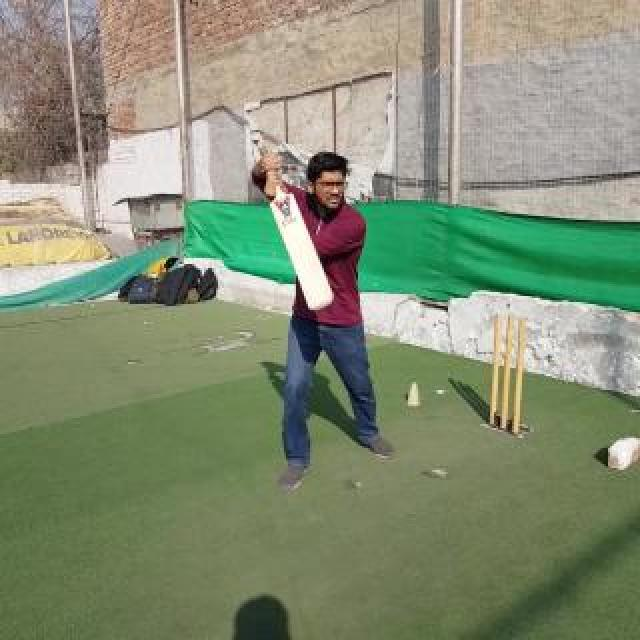bat: (258, 142, 334, 310)
